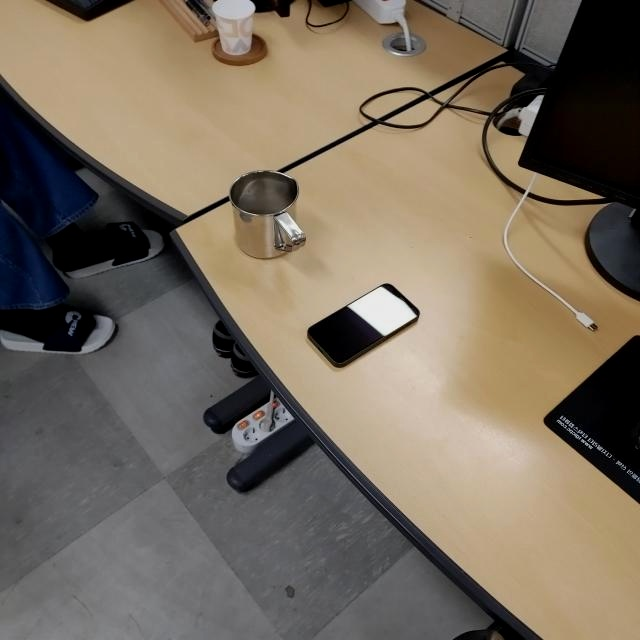cup: (228, 170, 308, 258)
phone: (307, 281, 421, 367)
